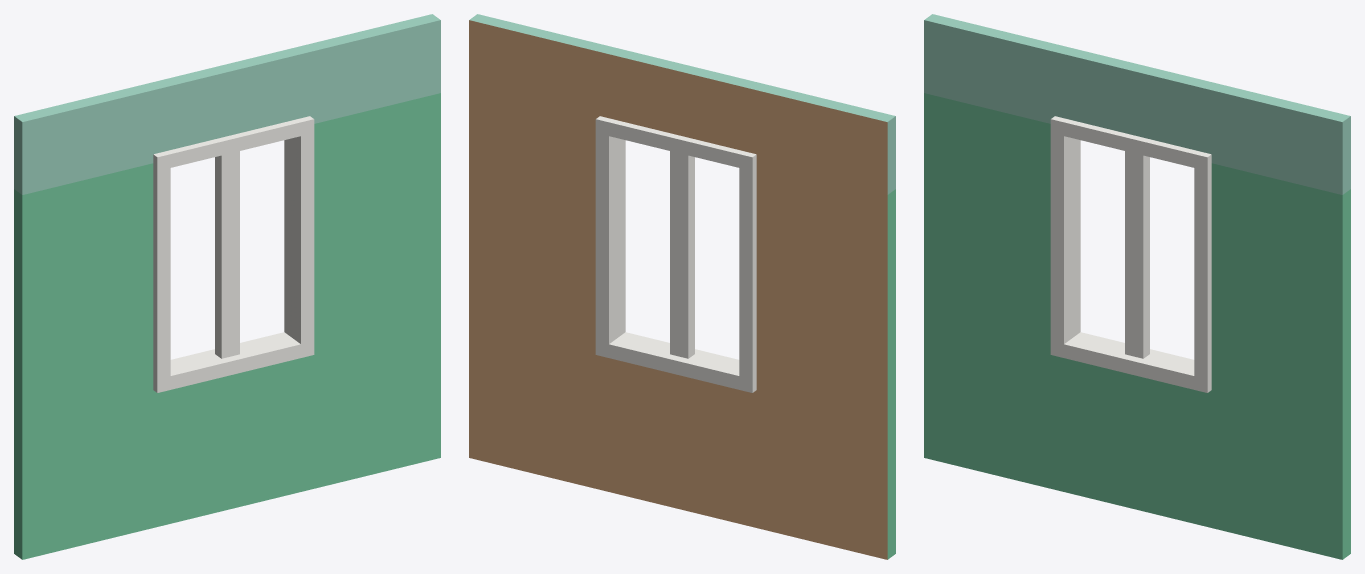
The model's file is BedRoomWindow.fbx.
3 views of the same model, side by side, from view 1: azimuth 30°, elevation 25°; view 2: azimuth 150°, elevation 25°; view 3: azimuth 330°, elevation 25° (orthographic).
Parts seen in each view (by area): view 1: wall, Cube; view 2: wall, Cube; view 3: wall, Cube.
Part boxes in pixels (x1,y1,x2,y2): wall: (14, 14, 440, 559); Cube: (153, 116, 314, 392); wall: (469, 14, 895, 559); Cube: (595, 116, 756, 392); wall: (924, 14, 1350, 559); Cube: (1050, 116, 1211, 392).
Bounding box in the file's own units: 2900 × 200 × 2900.
Materials: 2 (2 with a texture image).
